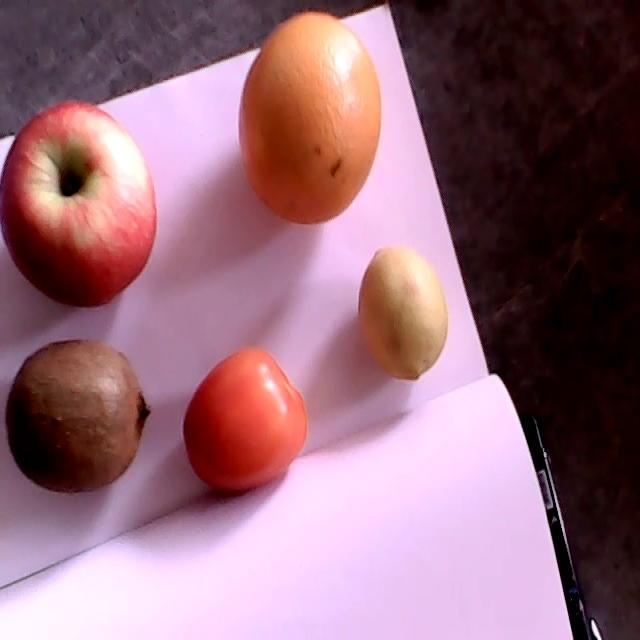apple: (1, 101, 157, 306)
kiwi: (6, 338, 153, 493)
lemon: (360, 248, 449, 380)
orange: (237, 9, 383, 224)
tomato: (181, 346, 306, 486)
